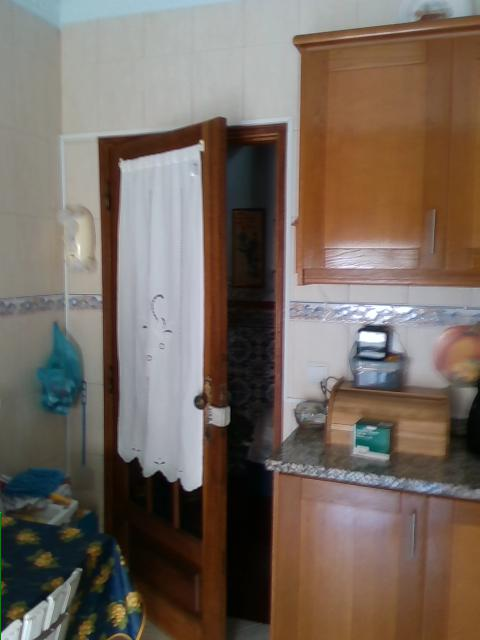semi_door: (94, 112, 283, 620)
